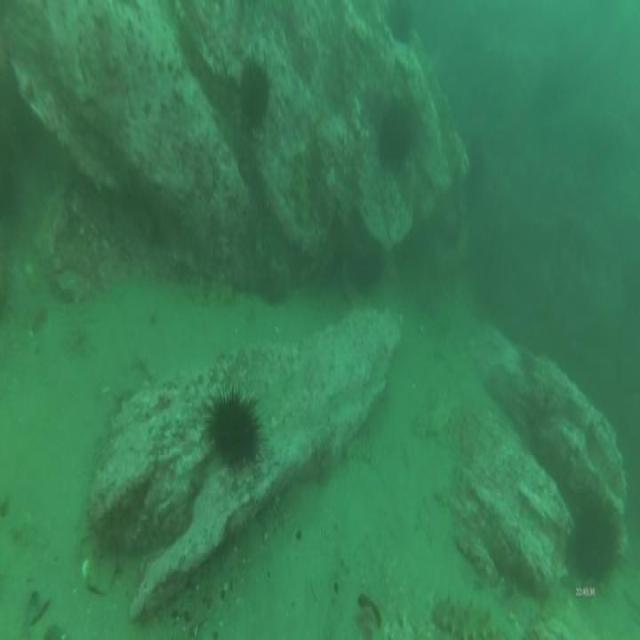echinus: (201, 386, 263, 482), (568, 490, 623, 596), (236, 56, 274, 134), (376, 93, 415, 166), (346, 248, 388, 296), (385, 0, 418, 44)
holothurian: (429, 588, 511, 640), (183, 266, 237, 312), (290, 152, 316, 238)
